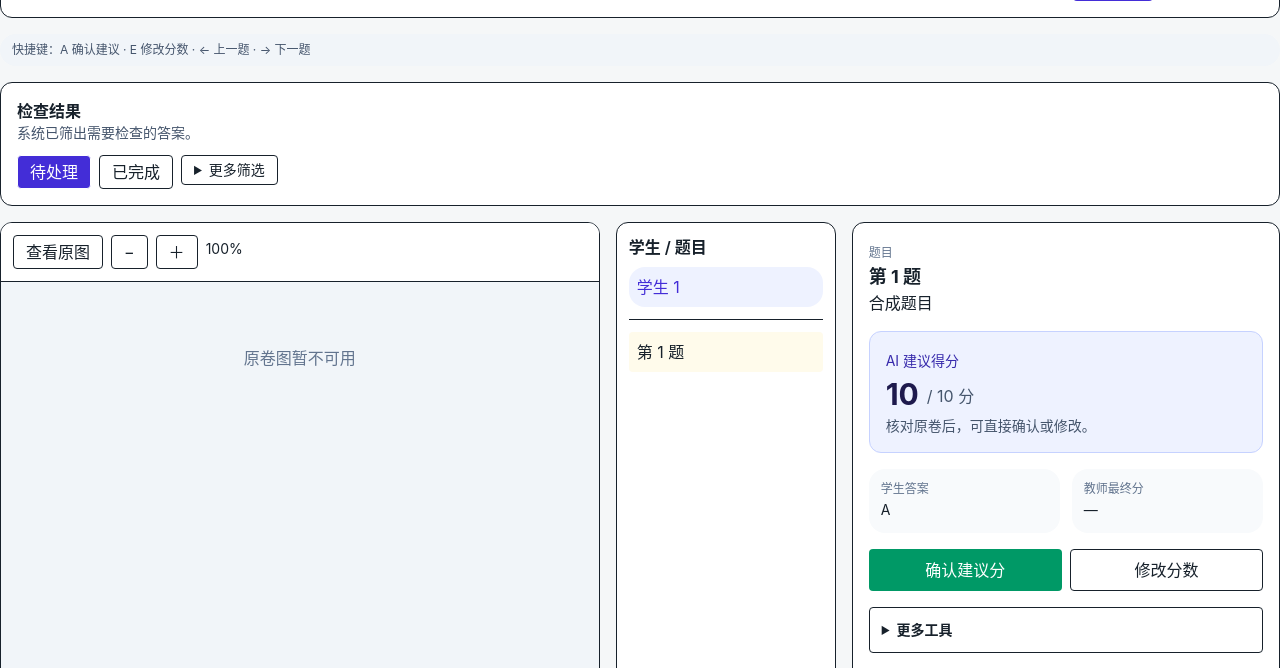
Test: shows the readable backend error when saving an exception edit fails
This screenshot has width=1280, height=668.
Click the button "修改分数". click: {"x": 1166, "y": 570}
box: [1070,549,1263,591]
(page scrolled)
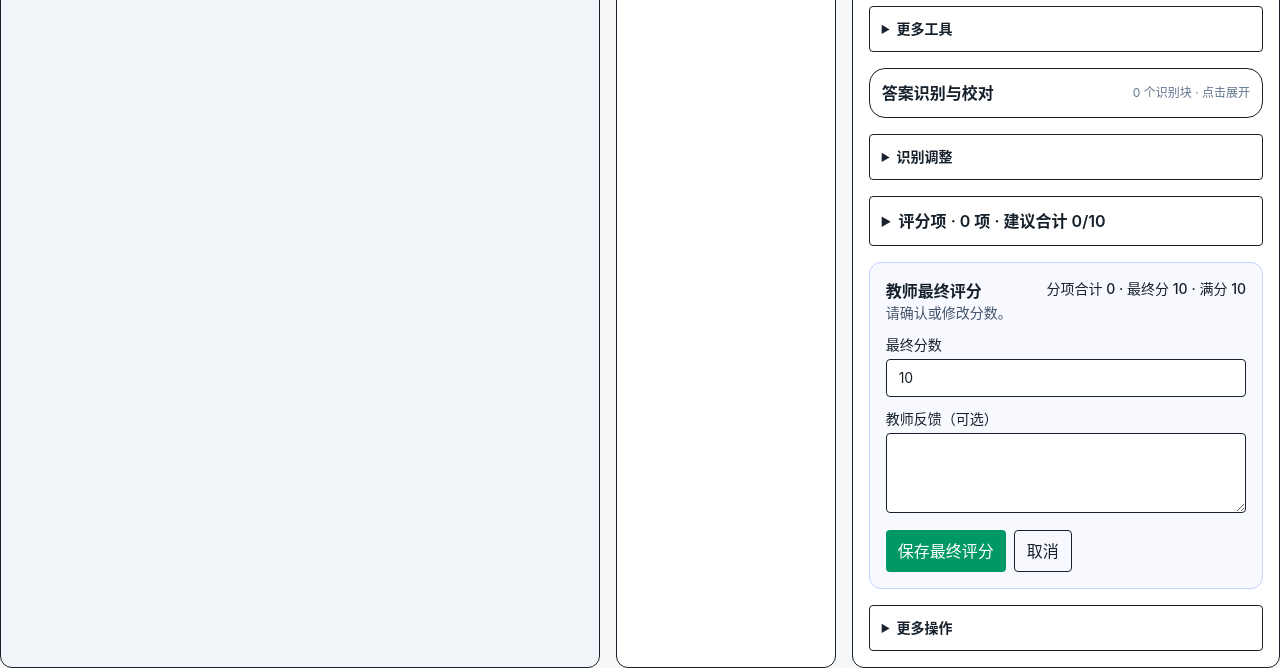
Click the button "保存最终评分". click: {"x": 946, "y": 551}
box: [886,530,1006,572]
(page scrolled)
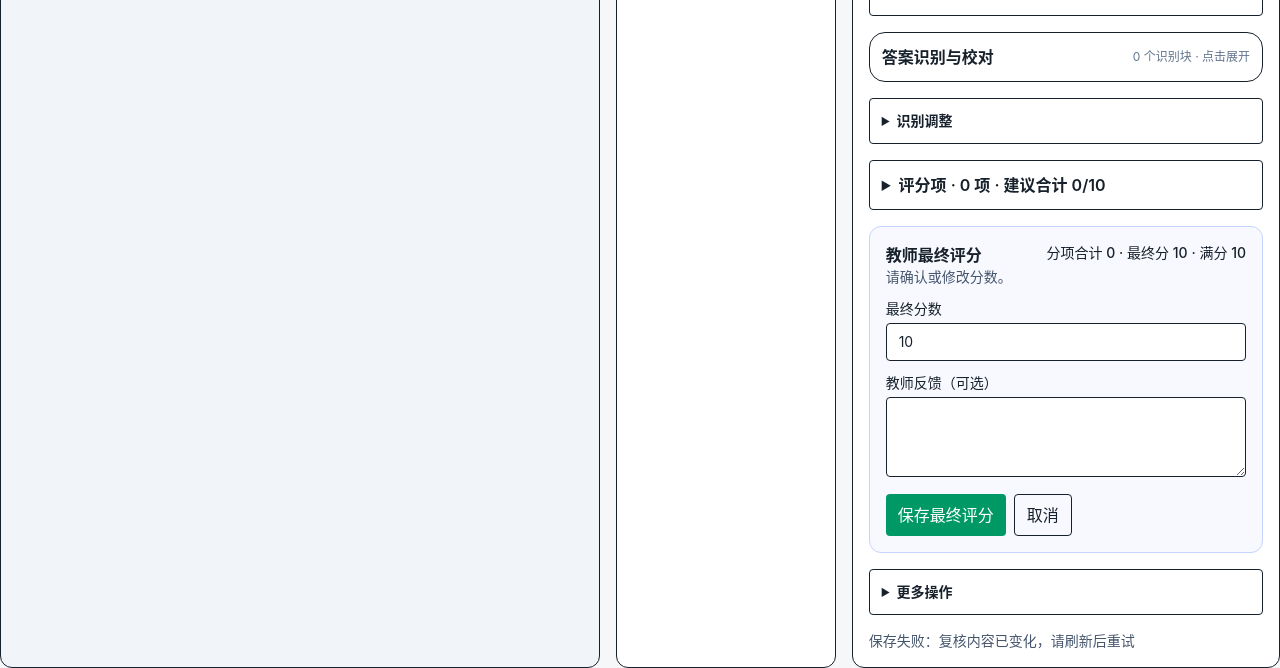
expect the message reads "保存失败：复核内容已变化，请刷新后重试": met, box [869,632,1135,649]
